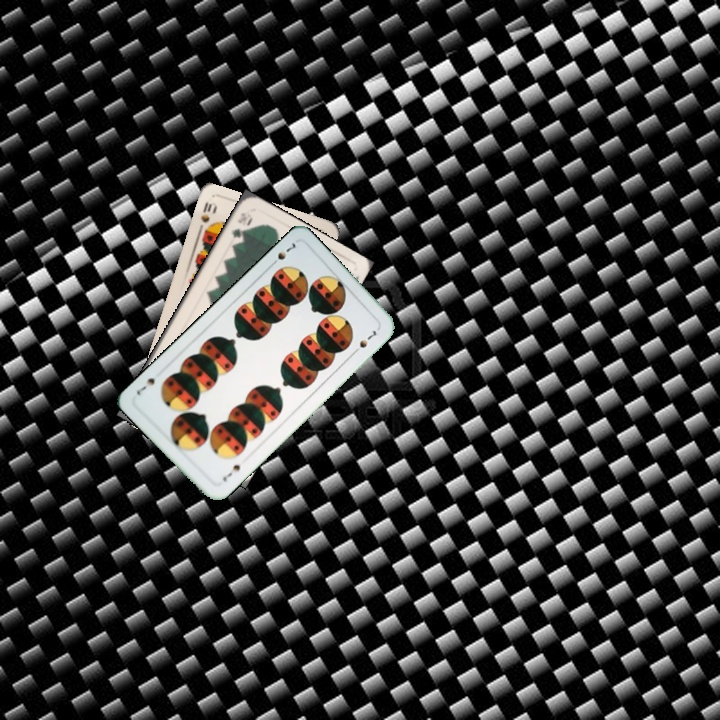G10: (227, 207, 251, 241)
S10: (194, 198, 218, 236)
S7: (266, 238, 298, 269), (219, 460, 243, 484)
